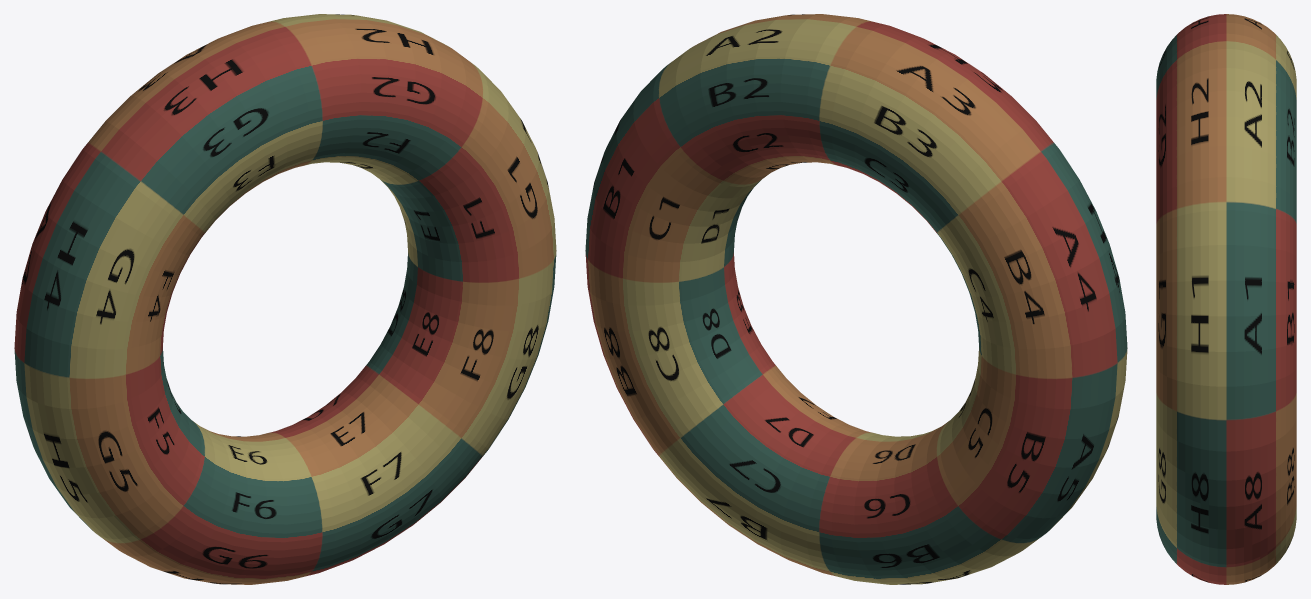
File: texture_torus_R15_r17.glb
3 renders of one model, left to right at view 1: azimuth 30°, elevation 25°; view 2: azimuth 150°, elevation 25°; view 3: azimuth 270°, elevation 25°, orthographic. The views are drawn at different scales.
Visible parts, largest first — view 1: world; view 2: world; view 3: world.
Part boxes in pixels (x1,y1,x2,y2): world: (14,14,556,584); world: (585,14,1127,584); world: (1156,14,1296,584).
Bounding box in the file's own units: 26.53 × 26.48 × 6.52.
Materials: 1 (1 with a texture image).
